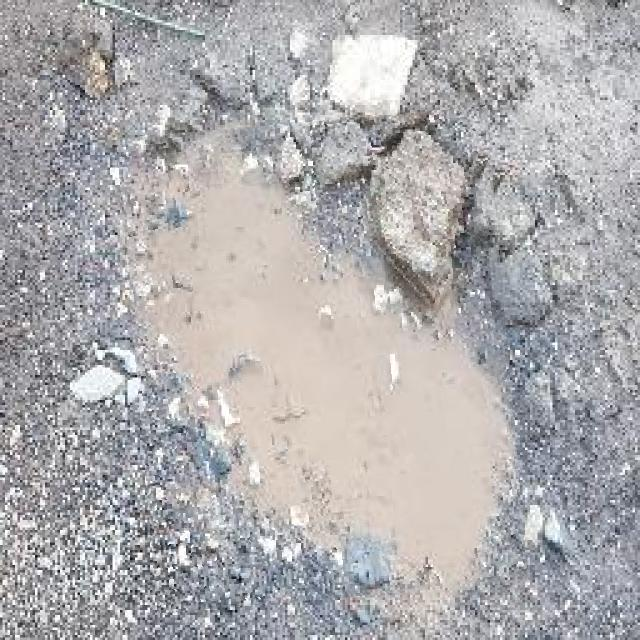puddle: (127, 115, 519, 607)
